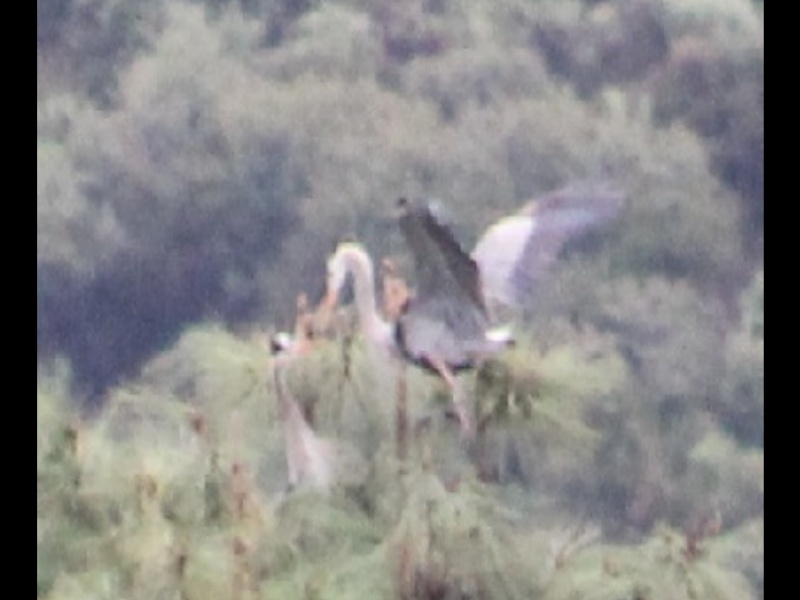heron: (319, 181, 638, 430)
